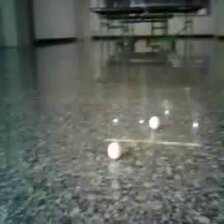w: (107, 142, 121, 159), (148, 115, 160, 130)
